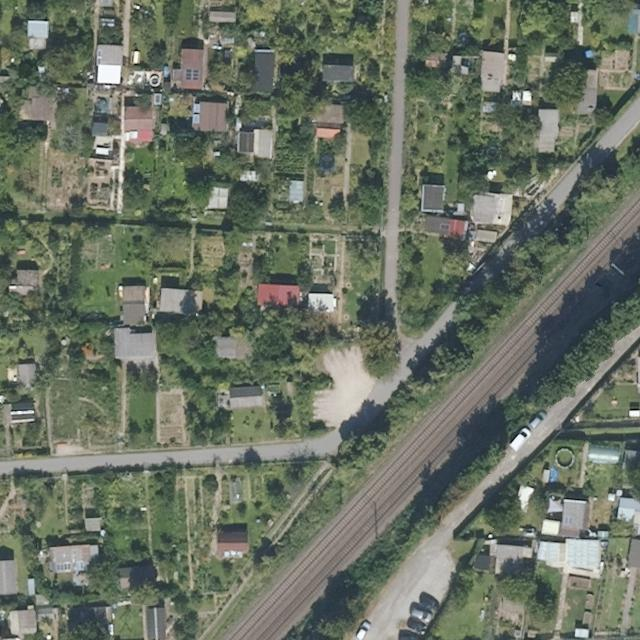PV: (184, 68, 200, 81)
